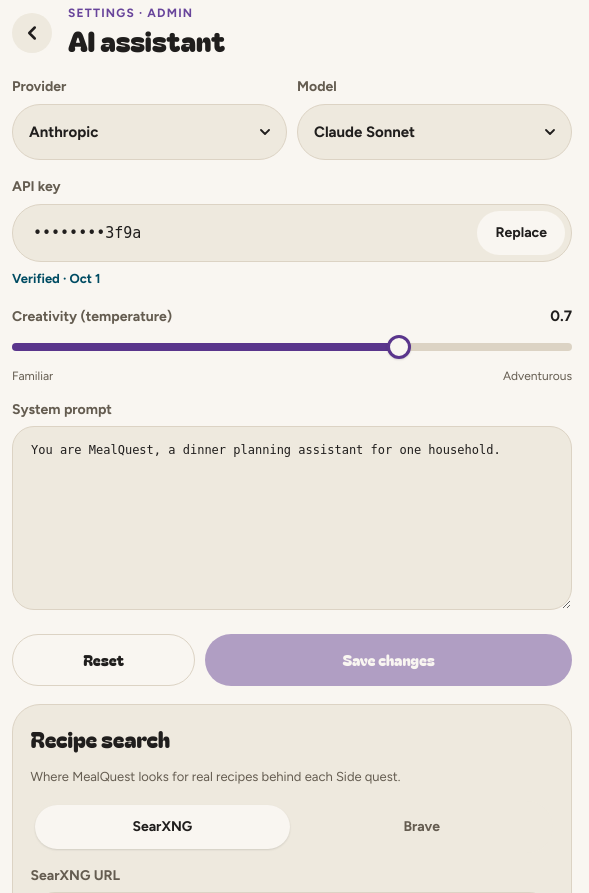
Scenario: AISettingsPage › saves only the edited fields
Select "Claude Haiku" in the dropdown labelled "Model" at {"x": 434, "y": 132}, box [297, 104, 572, 160]
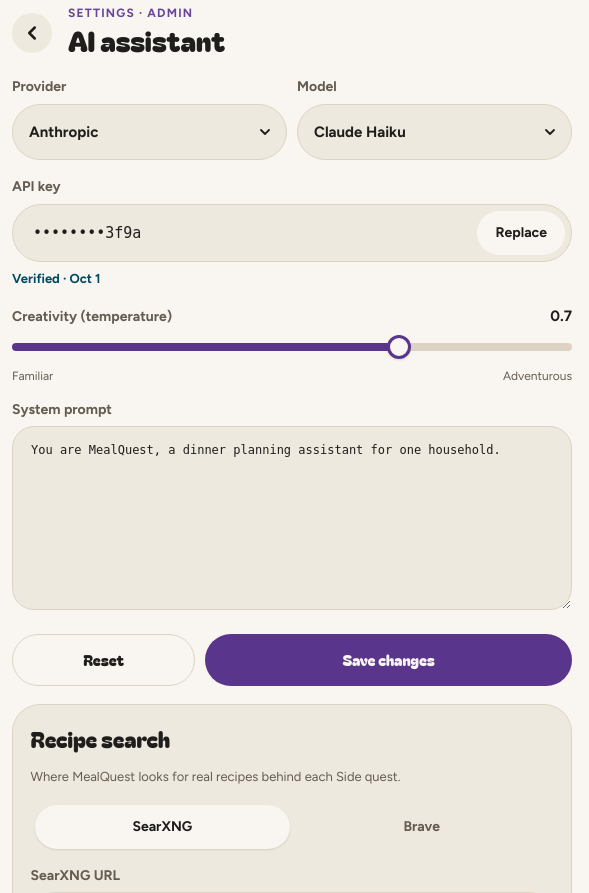
Set the slider labelled "Creativity (temperature)" to "0.4" at {"x": 238, "y": 347}, box [12, 325, 572, 369]
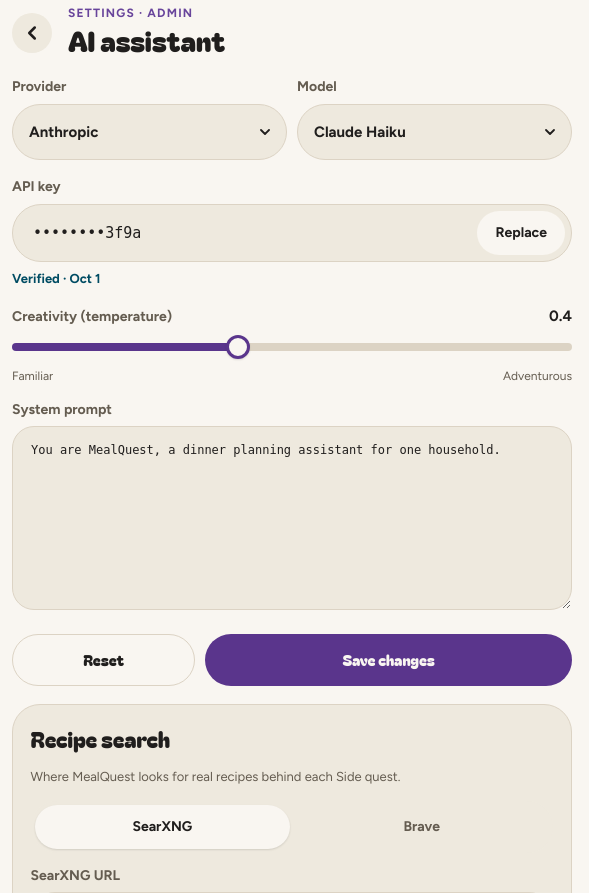
Expected: the text "0.4" is shown, [549, 307, 572, 325]
Replace the text in the text box labelled "System prompt" with "Keep it cozy." at {"x": 292, "y": 518}, box [12, 426, 572, 610]
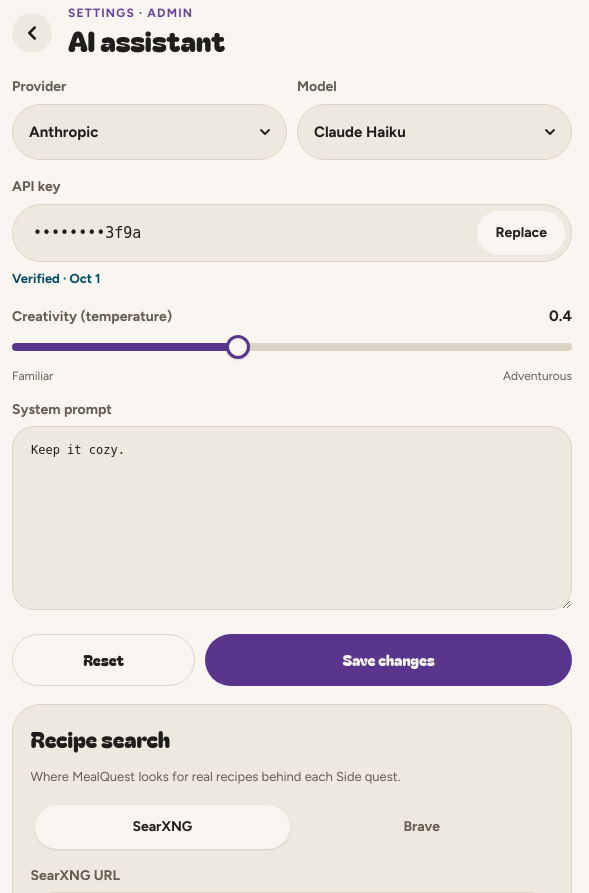
Expected: the button "Save changes" is enabled
Click the button "Save changes" at {"x": 389, "y": 660}, box [205, 634, 572, 686]
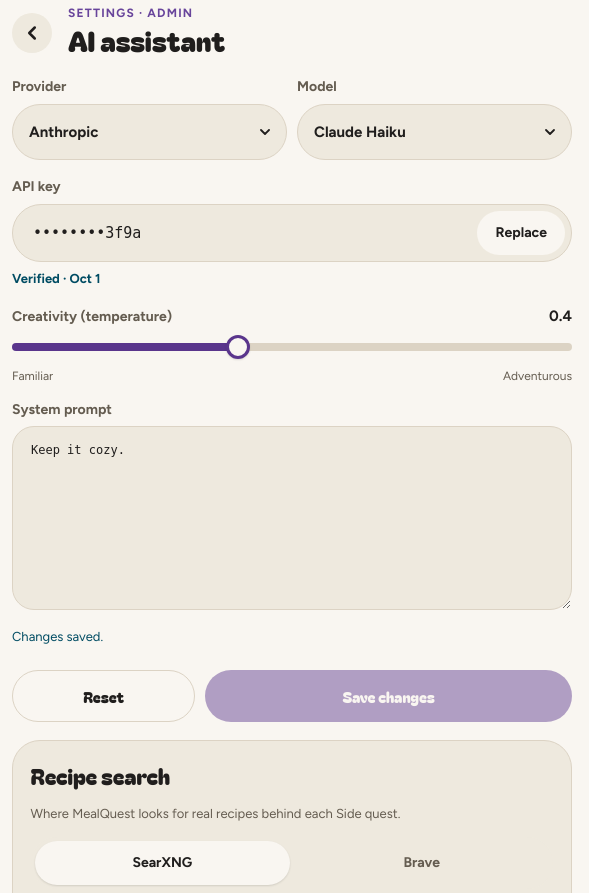
Expected: the text "Changes saved." is shown, [12, 629, 103, 644]
Expected: the button "Save changes" is disabled, [205, 670, 572, 722]
